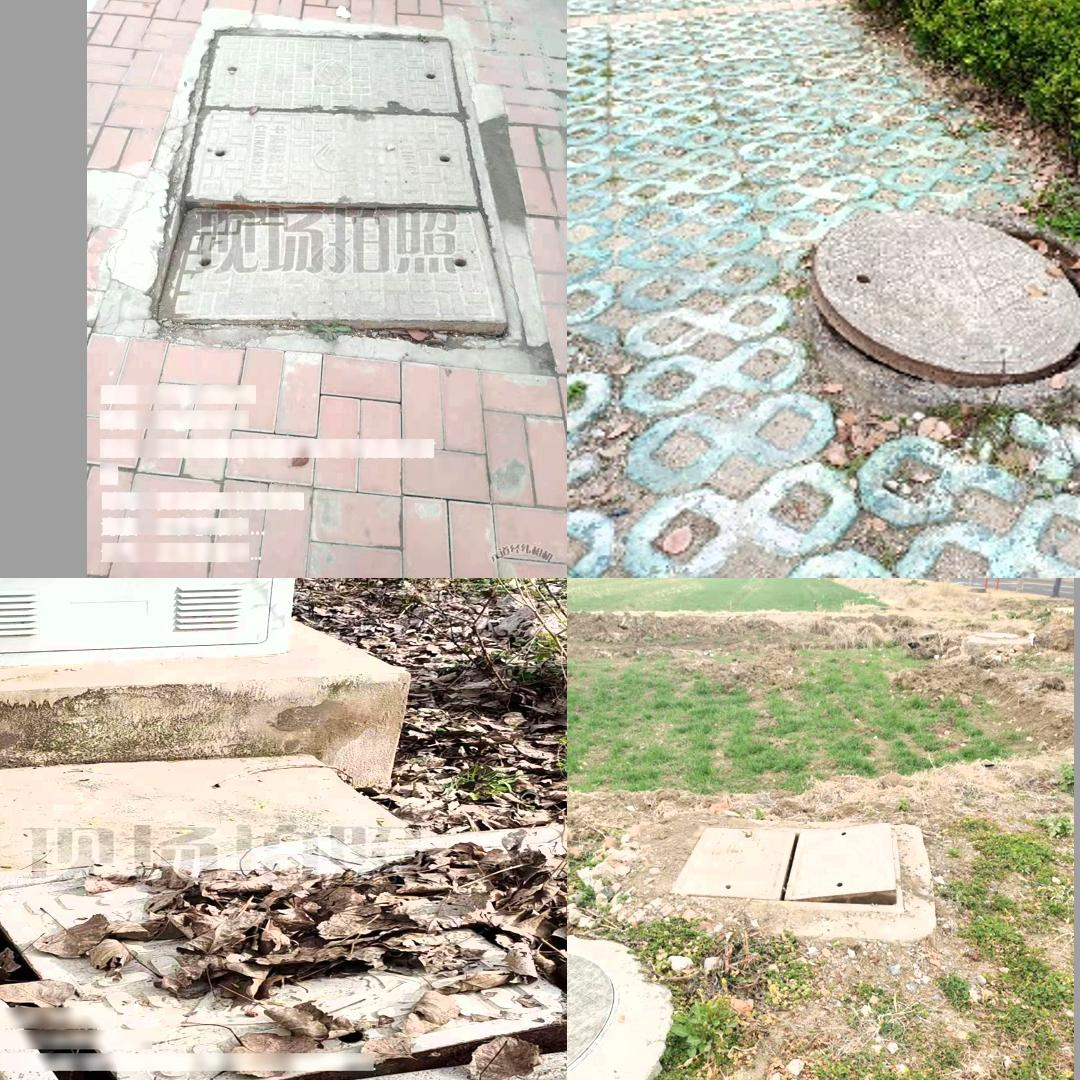uncovered: (0, 826, 557, 1080), (149, 19, 524, 350), (811, 208, 1080, 402), (669, 820, 902, 912)
